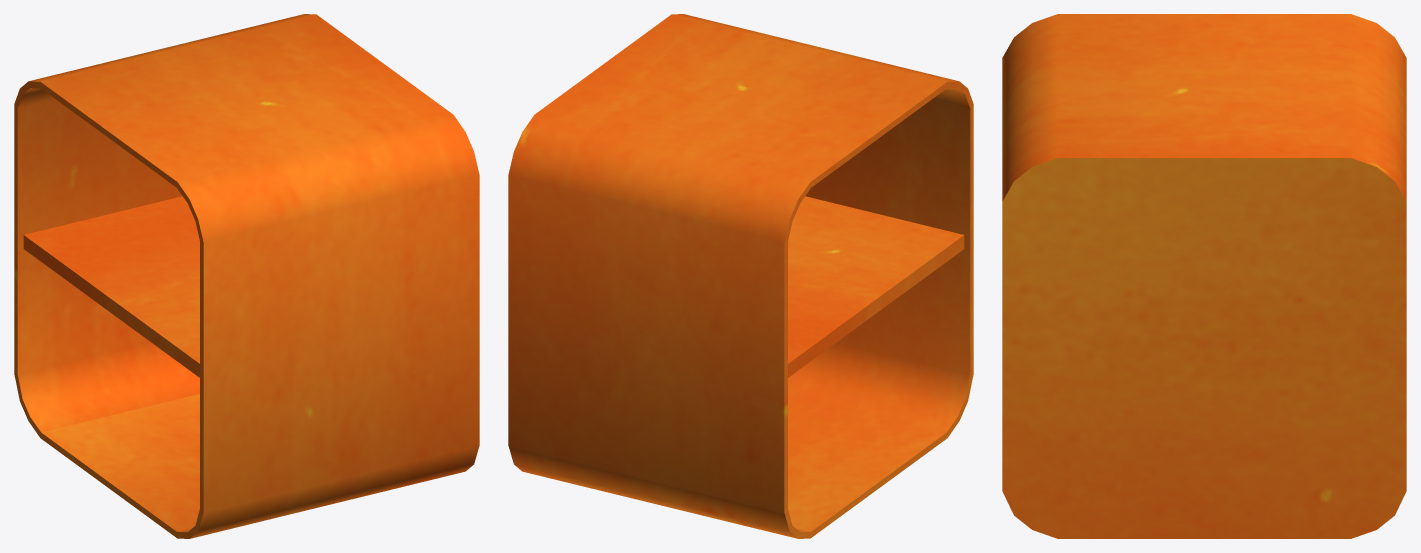
The model's file is shelf.fbx.
3 views of the same model, side by side, from view 1: azimuth 30°, elevation 25°; view 2: azimuth 150°, elevation 25°; view 3: azimuth 270°, elevation 25° (orthographic). The views are drawn at different scales.
Visible parts, largest first — view 1: shelf; view 2: shelf; view 3: shelf.
Boxes of the visible parts, x1,y1,x2,y2 form: shelf: [14, 14, 479, 538]; shelf: [508, 14, 973, 538]; shelf: [1002, 14, 1406, 538].
Bounding box in the file's own units: 39.37 × 48.58 × 46.76.
